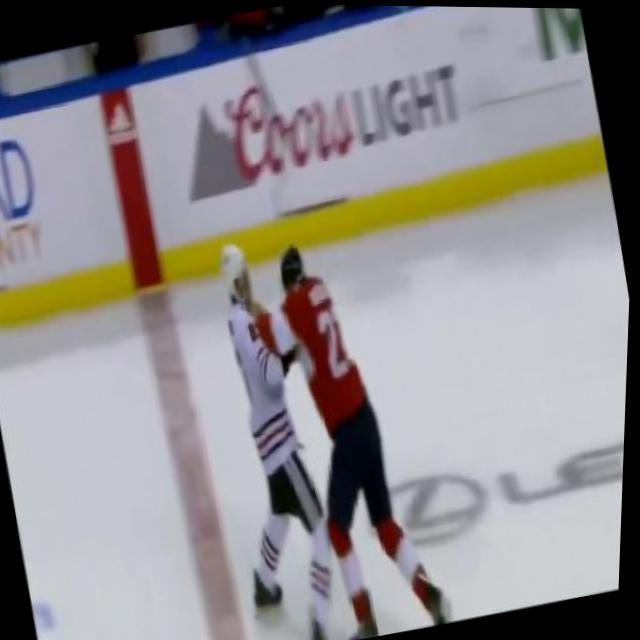fight: (199, 209, 446, 640)
